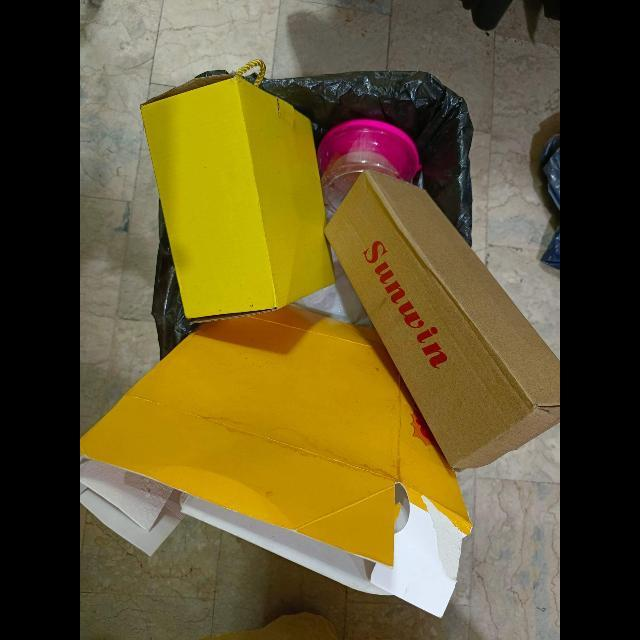glass: (317, 120, 423, 223)
paper: (80, 304, 472, 619), (323, 170, 560, 474), (139, 72, 337, 326)
